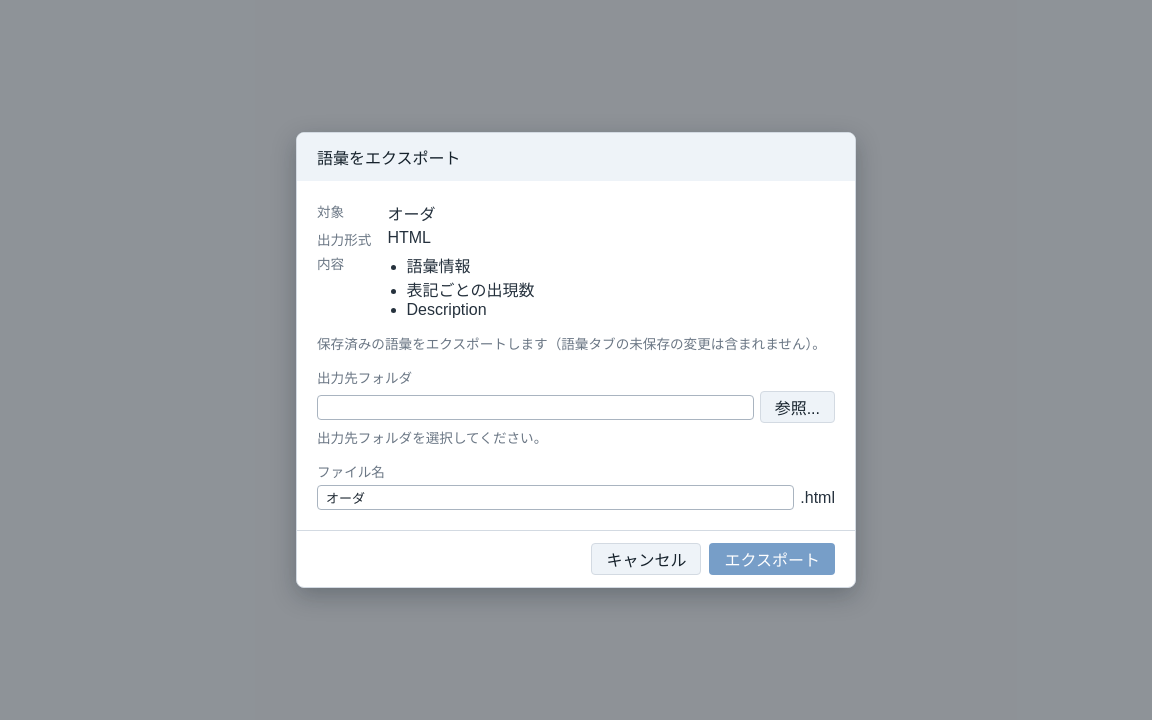
Test case: GlossaryExportDialog (#574 Slice 6) › exports the planned single-entry HTML and shows the saved path
This screenshot has width=1152, height=720.
What coordinates should you click on to do the following:
click the button "参照..."
I would click on:
 (797, 407)
Its box is top-left (760, 391), bottom-right (835, 423).
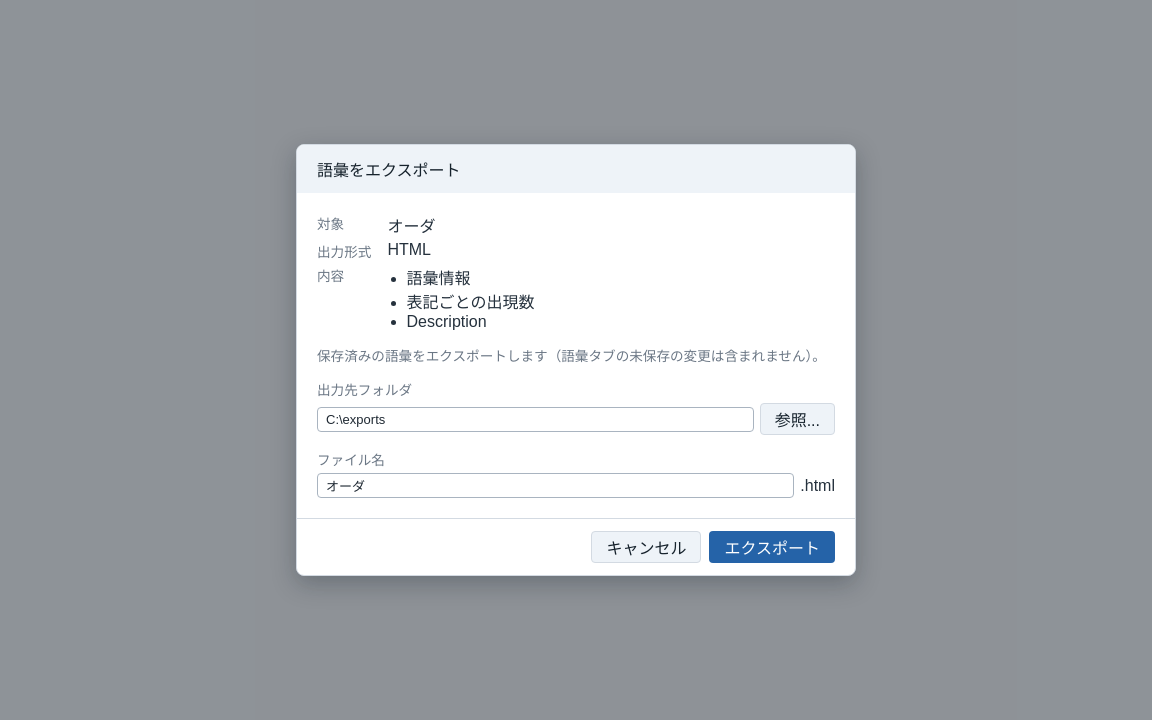
What coordinates should you click on to do the following:
click the button "エクスポート"
I would click on:
 (772, 547)
Its box is top-left (710, 531), bottom-right (835, 563).
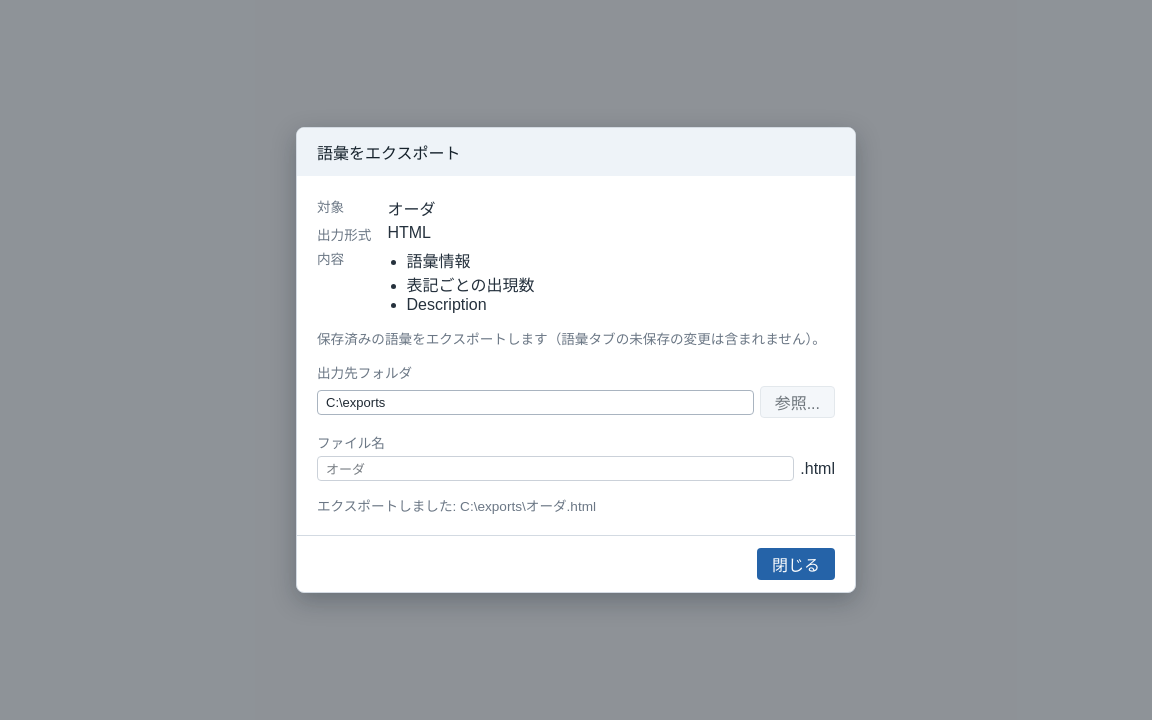
Result: the button "閉じる" is shown at top-left (757, 548), bottom-right (835, 580)
